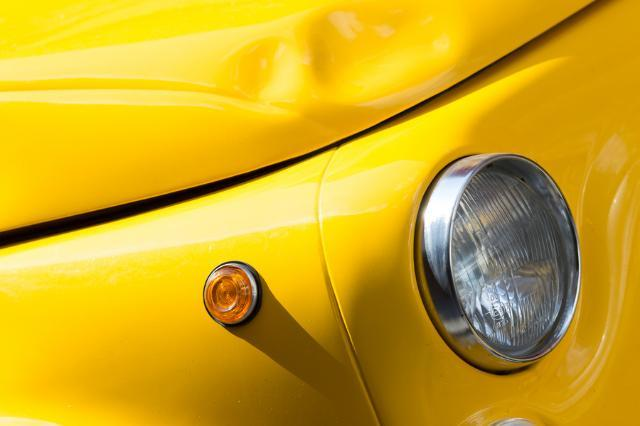Bonnet: (216, 3, 445, 129)
